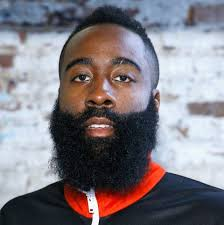b.y: (59, 109, 145, 187)
